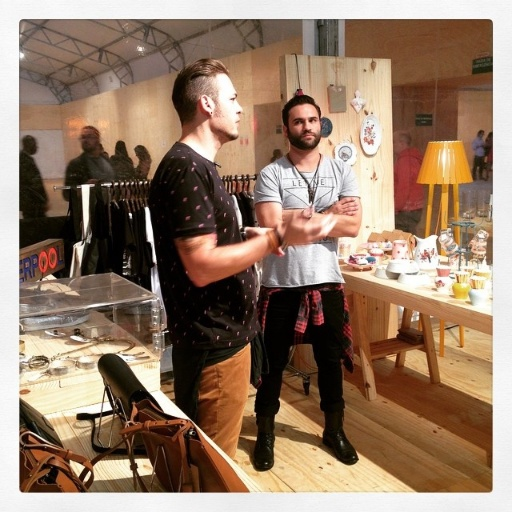hand: (273, 208, 339, 246), (241, 224, 287, 257), (326, 193, 360, 214), (280, 206, 295, 227)
